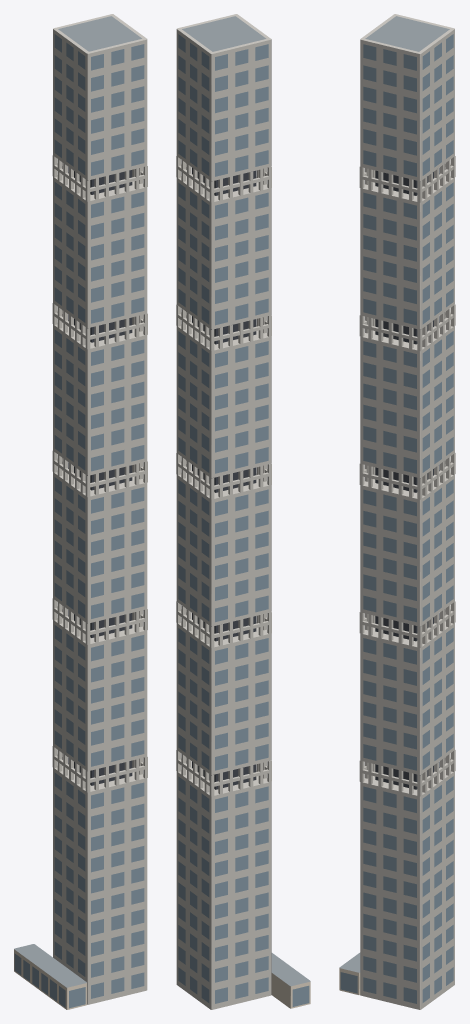
File: nyc-432-park.glb
3 views of the same model, side by side, from view 1: azimuth 30°, elevation 25°; view 2: azimuth 210°, elevation 25°; view 3: azimuth 330°, elevation 25° (orthographic).
Visible parts, largest first — view 1: 432 Park Avenue; view 2: 432 Park Avenue; view 3: 432 Park Avenue.
Part boxes in pixels (x1,y1,x2,y2): 432 Park Avenue: (14, 14, 147, 1009); 432 Park Avenue: (176, 14, 310, 1009); 432 Park Avenue: (339, 14, 455, 1009).
Bounding box in the file's own units: 38.03 × 426 × 43.38.
